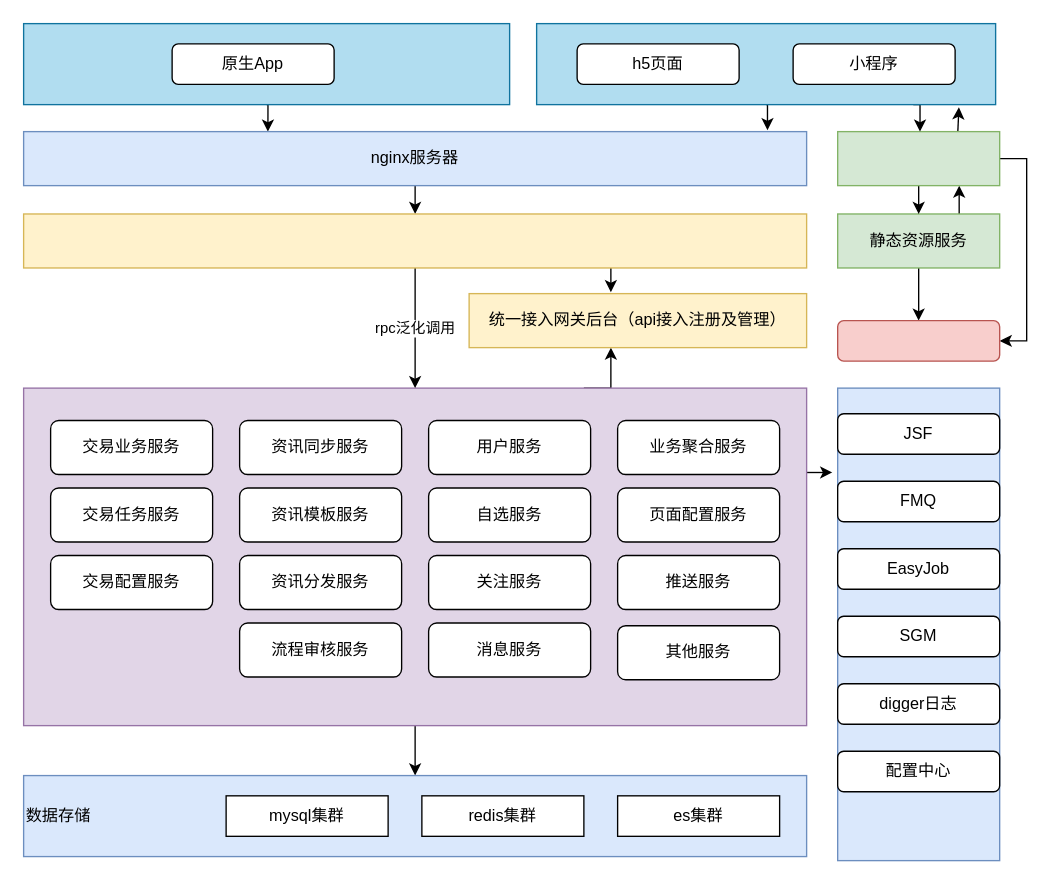
Image size: 1061x884. Some labels were removed from this diagram. Here are the shapes that lost their labels. From the top down, the centre of each, then its label:
At (x=918, y=158): "cdn分发网络".
At (x=414, y=240): "统一接入网关（API路由，熔断降级sentinel，统一登录，加解密）".
At (x=918, y=340): "云存储".
